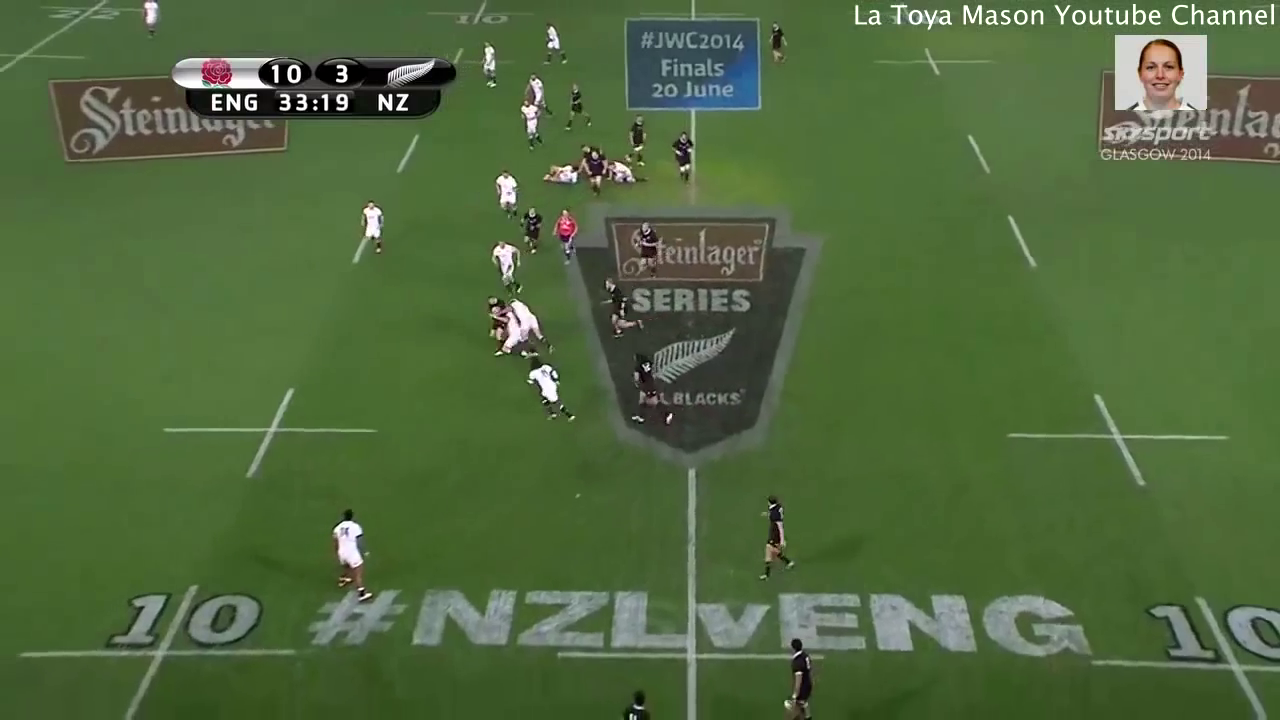10_metre: (8, 576, 302, 720), (990, 384, 1261, 505), (1084, 577, 1280, 720), (154, 380, 380, 484), (858, 44, 1003, 85), (424, 1, 549, 27), (430, 38, 516, 70)
ball: (487, 302, 504, 323)
player: (752, 492, 806, 585), (623, 349, 678, 436), (522, 356, 577, 433), (774, 630, 820, 720), (594, 277, 648, 345), (552, 75, 596, 139), (630, 215, 667, 290), (514, 299, 557, 361), (665, 123, 705, 189), (358, 192, 395, 261), (609, 678, 662, 720), (623, 108, 657, 172), (491, 238, 527, 298), (521, 71, 560, 125), (537, 16, 574, 72), (553, 208, 585, 270), (517, 198, 546, 264), (765, 12, 799, 68), (495, 311, 535, 356), (493, 166, 525, 221), (479, 293, 509, 351), (518, 96, 547, 156), (603, 156, 653, 185), (582, 147, 609, 198), (538, 156, 583, 185), (478, 39, 498, 94)
